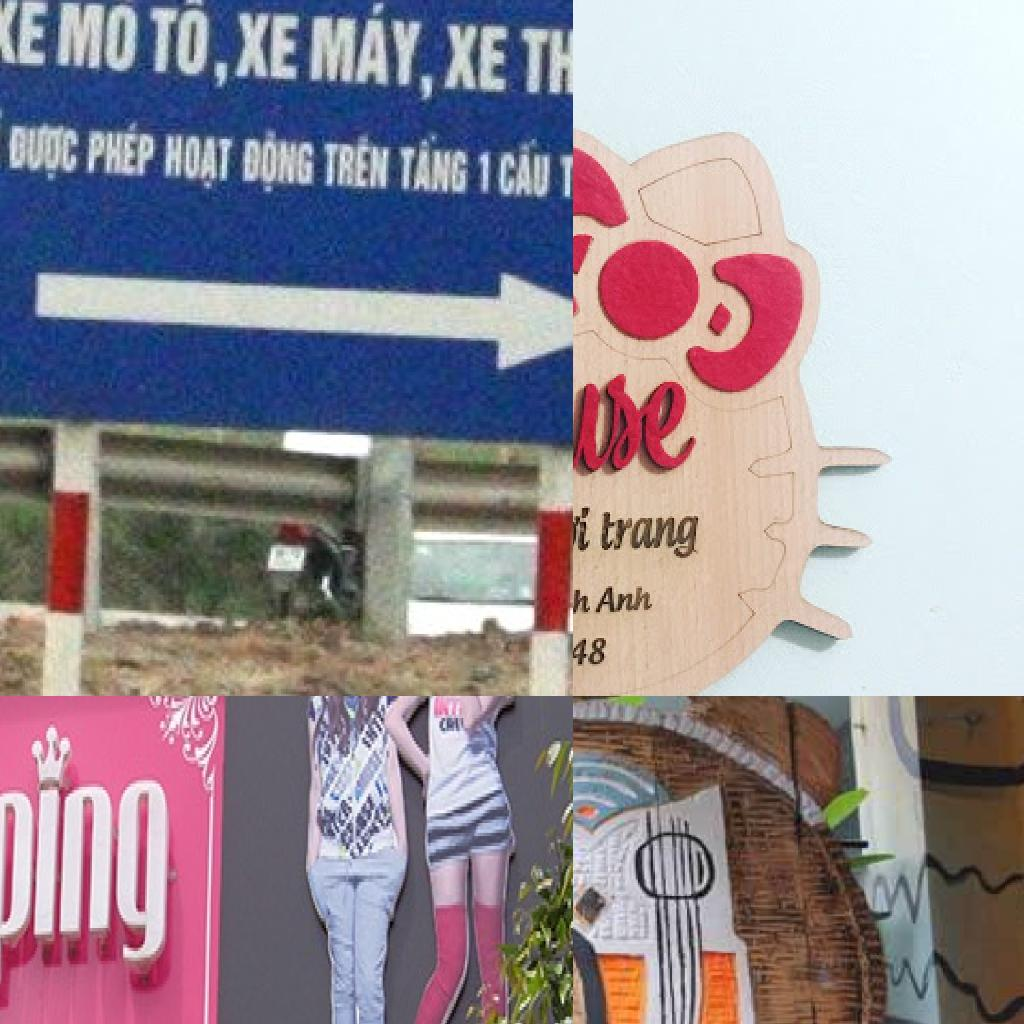text: (0, 714, 172, 1000), (573, 336, 704, 488), (306, 0, 426, 94), (50, 0, 142, 81), (598, 504, 708, 566), (235, 0, 304, 89), (440, 11, 511, 97), (2, 116, 84, 186), (145, 0, 214, 81), (516, 10, 573, 105), (238, 129, 314, 199), (158, 128, 237, 194), (84, 115, 158, 181), (396, 131, 470, 197), (320, 134, 394, 196), (0, 0, 55, 73), (496, 131, 552, 202), (594, 582, 658, 618), (573, 498, 596, 560), (204, 50, 232, 94), (476, 147, 494, 202), (573, 582, 596, 624), (433, 696, 463, 721), (417, 71, 437, 107), (440, 718, 448, 738)
